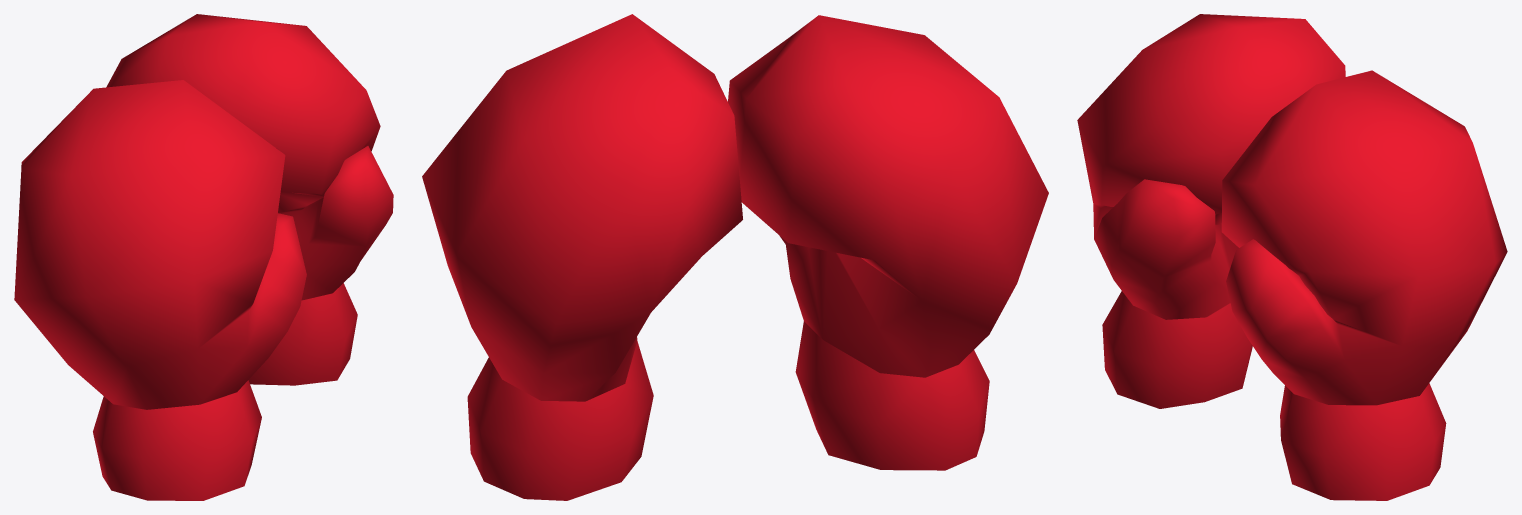
Rendered from BoxingGloves.fbx.
3 renders of one model, left to right at view 1: azimuth 30°, elevation 25°; view 2: azimuth 150°, elevation 25°; view 3: azimuth 270°, elevation 25°, orthographic. The views are drawn at different scales.
Parts seen in each view (by area): view 1: Boxing_gloves.001; view 2: Boxing_gloves.001; view 3: Boxing_gloves.001.
Part boxes in pixels (bbox=[...]): Boxing_gloves.001: bbox=[14, 14, 393, 500]; Boxing_gloves.001: bbox=[422, 14, 1048, 500]; Boxing_gloves.001: bbox=[1077, 14, 1507, 500].
Size of the model in its own units: 0.4158 by 0.3561 by 0.3762.
